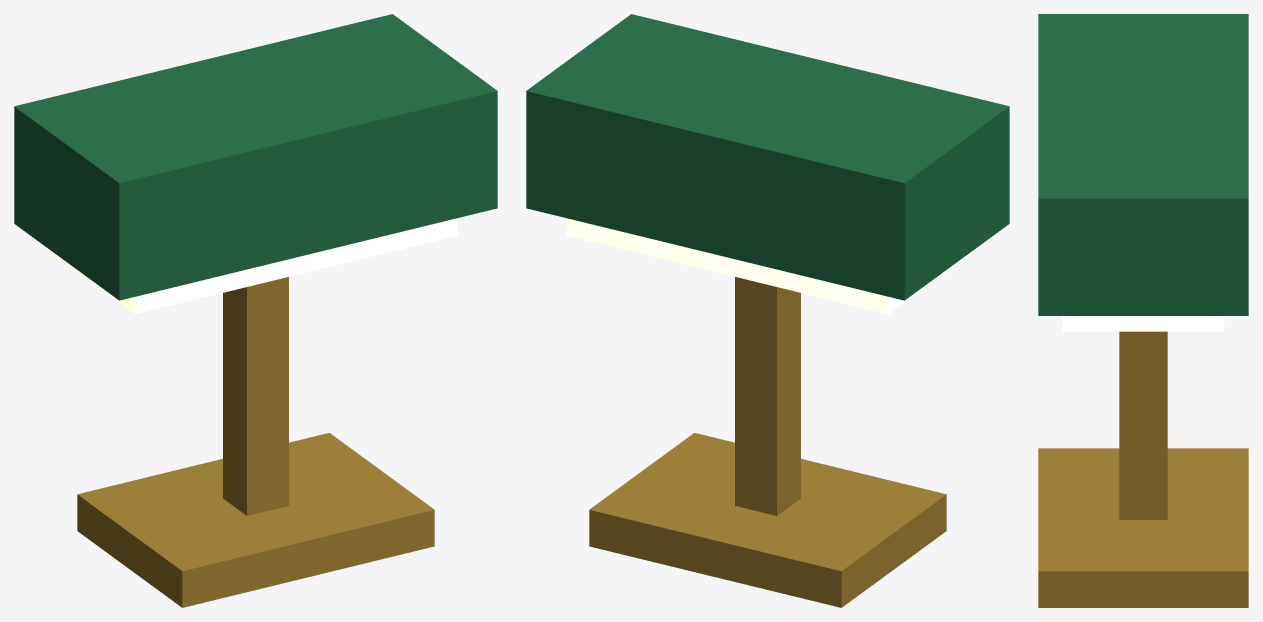
Rendered from tv-reading-lamp.glb.
3 views of the same model, side by side, from view 1: azimuth 30°, elevation 25°; view 2: azimuth 150°, elevation 25°; view 3: azimuth 270°, elevation 25° (orthographic).
Visible parts, largest first — view 1: box-prop; view 2: box-prop; view 3: box-prop.
Boxes of the visible parts, bbox=[...] form: box-prop: bbox=[14, 14, 497, 607]; box-prop: bbox=[526, 14, 1009, 607]; box-prop: bbox=[1038, 14, 1248, 607].
Bounding box in the file's own units: 0.54 × 0.6 × 0.26.
